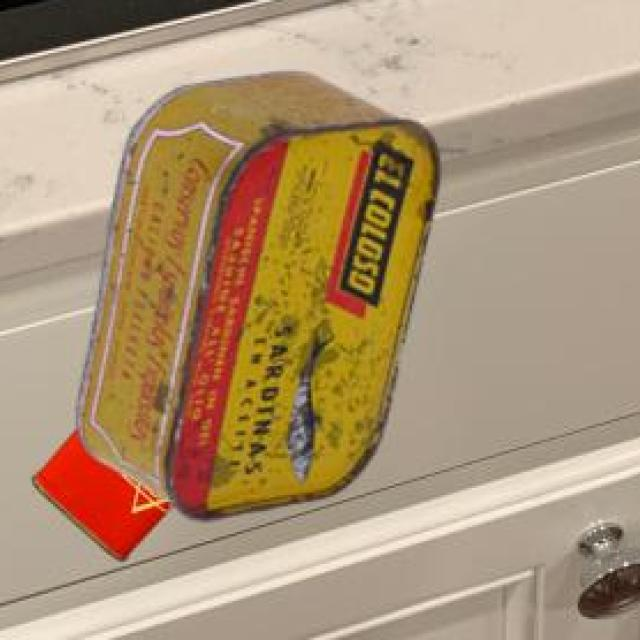logam: (75, 68, 434, 517), (29, 425, 169, 556)
